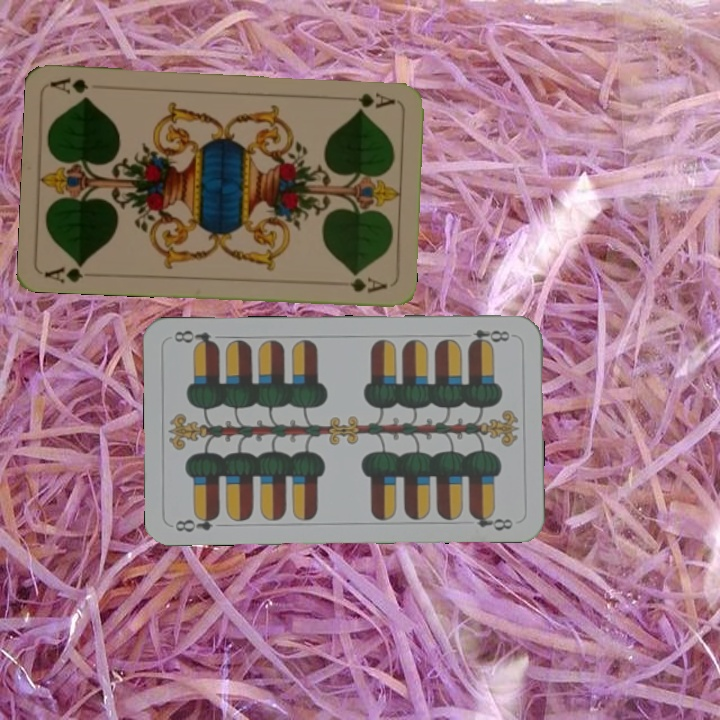E8: (170, 510, 222, 535), (465, 325, 517, 348)
GA: (339, 88, 398, 112), (41, 258, 87, 285)
